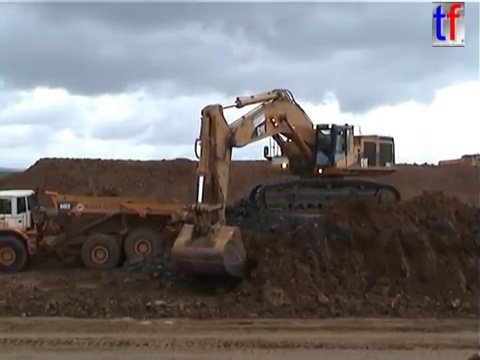excavator: (169, 86, 404, 284)
truck: (1, 187, 206, 274), (436, 152, 480, 178)
